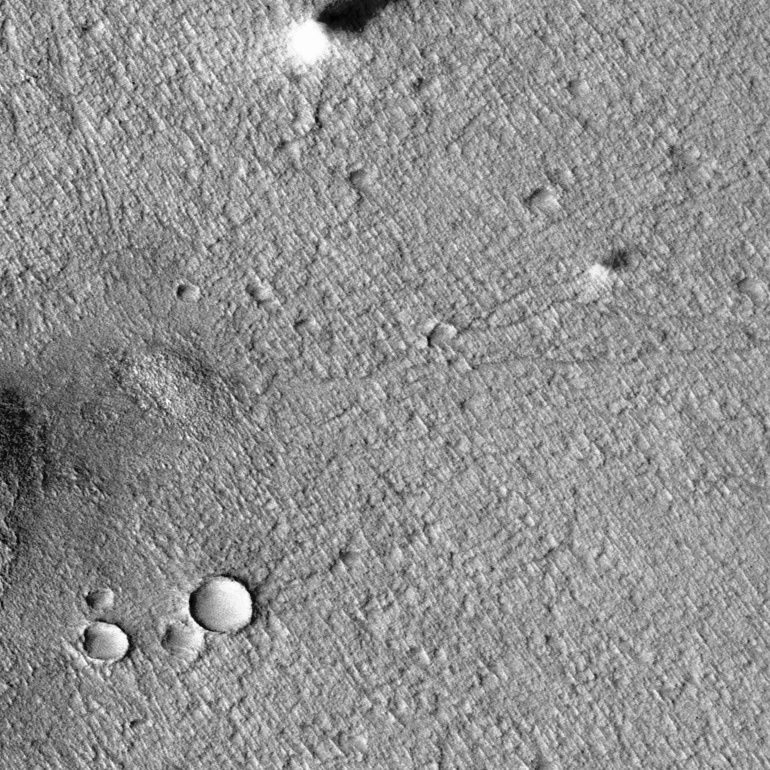dust_devil: (279, 1, 398, 74), (588, 244, 636, 282)
